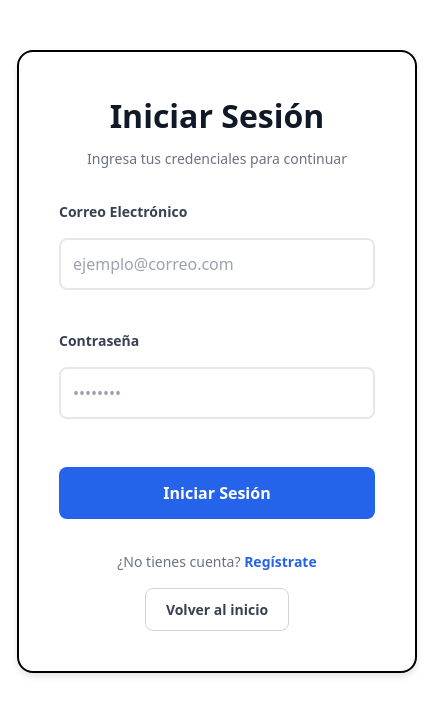
LoginPage › Submit del formulario › debe mostrar error con credenciales incorrectas
This screenshot has width=435, height=728.
Type "test@example.com" into the field labelled "Correo Electrónico".
click(217, 264); type("test@example.com")  # box 59,238 -> 375,290
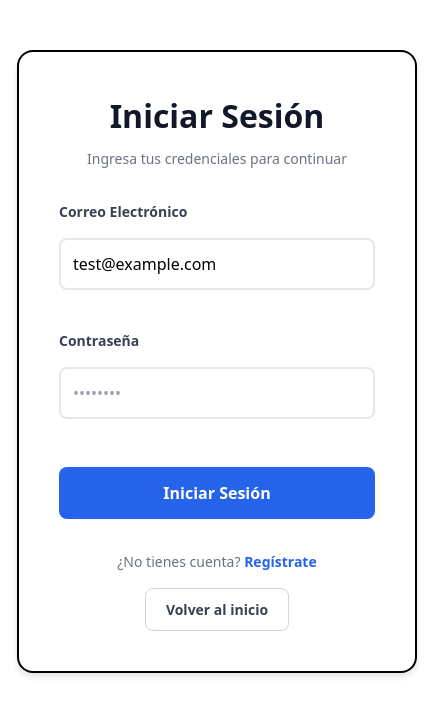
Type "wrongpass" into the password field labelled "Contraseña".
click(217, 392); type("wrongpass")  # box 59,366 -> 375,418
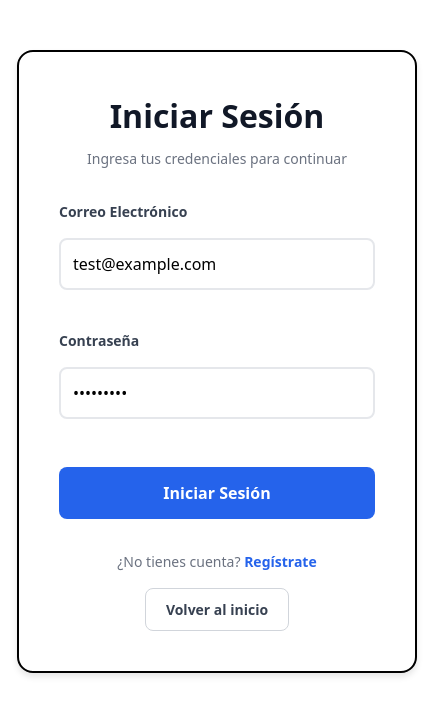
Click the button "Iniciar Sesión".
click(217, 492)  # box 59,466 -> 375,518
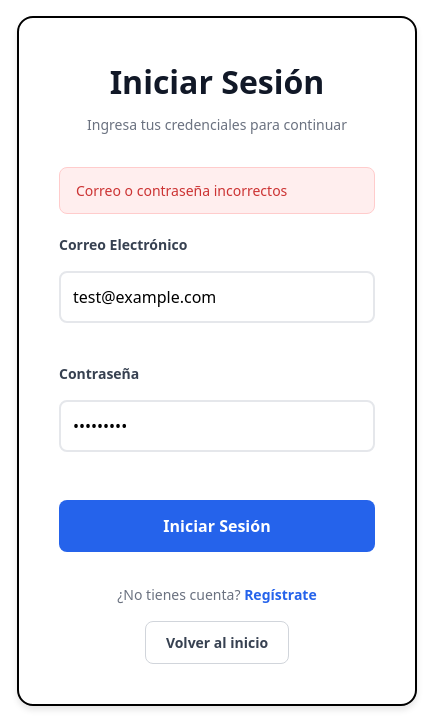
Expected: the text "Correo o contraseña incorrectos" is shown, 59,167 -> 375,214
